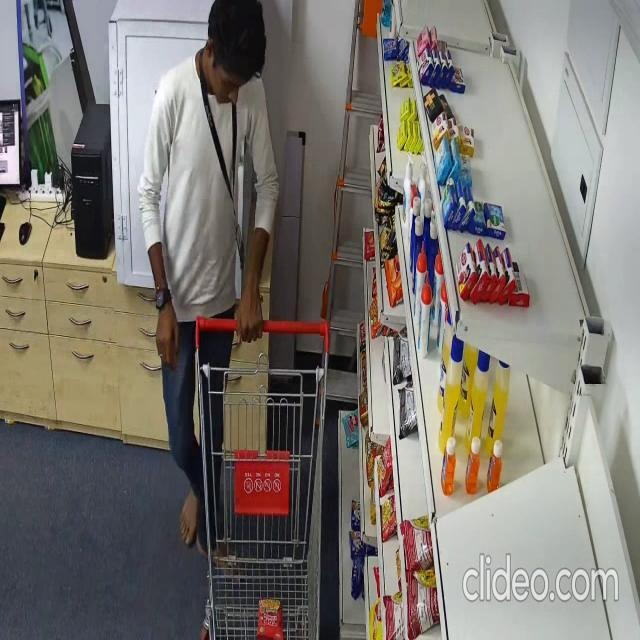normal: (145, 0, 279, 580)
